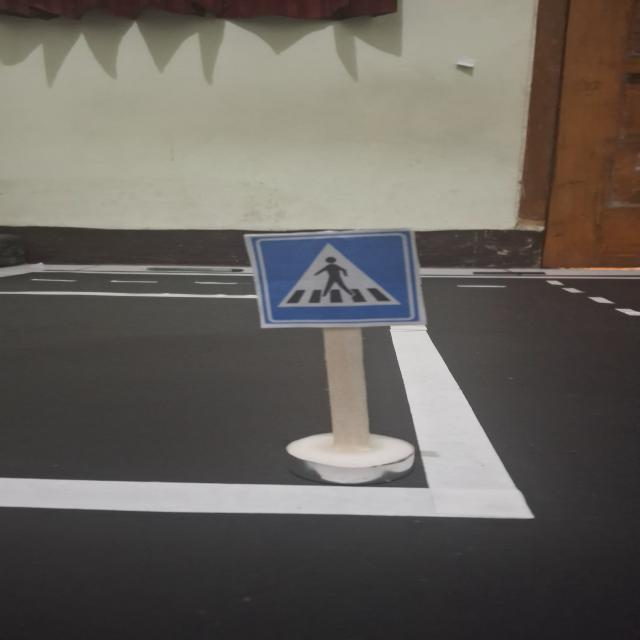Rambu Penyebrangan: (254, 236, 423, 326)
